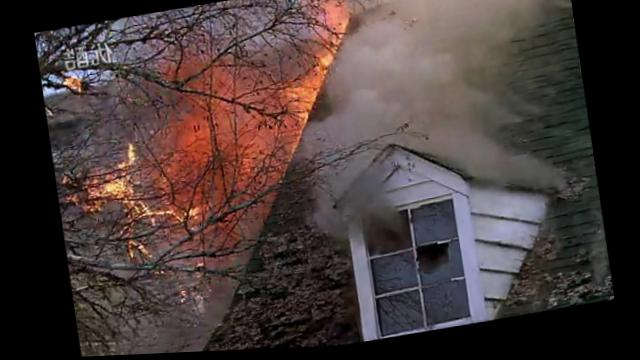fire: (84, 177, 129, 201), (321, 0, 351, 35), (285, 85, 316, 114), (305, 70, 324, 92), (291, 112, 310, 134), (140, 207, 172, 218), (123, 144, 137, 166), (318, 51, 333, 71), (138, 200, 146, 210)
